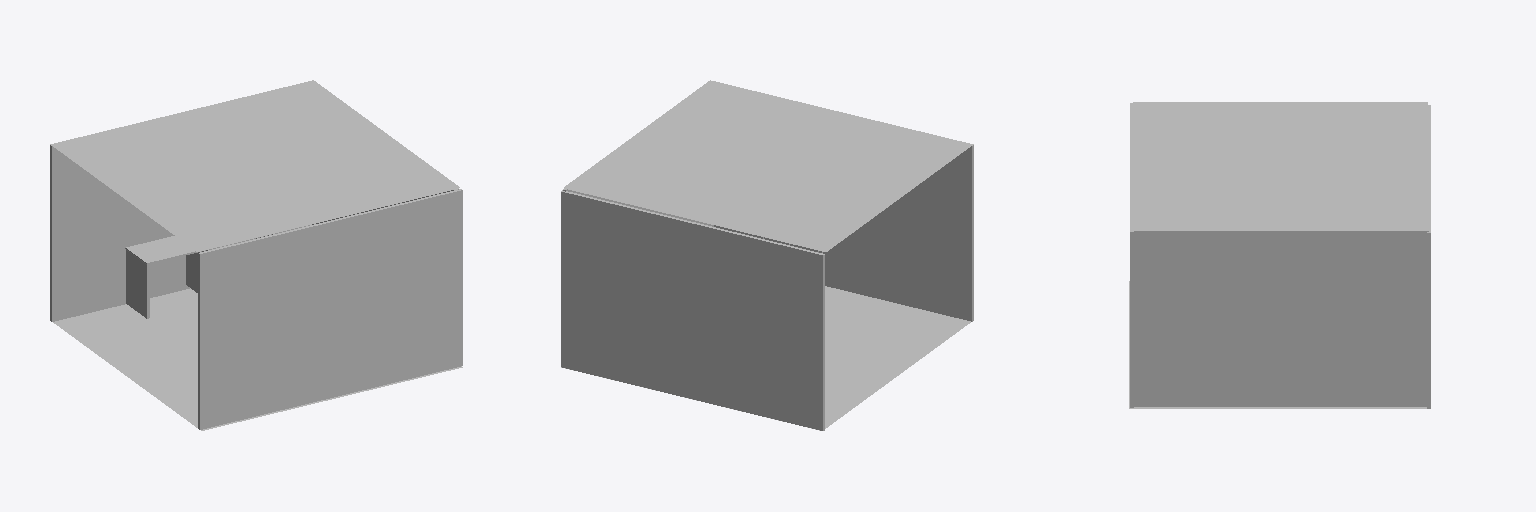
The model's file is room.obj.
3 renders of one model, left to right at view 1: azimuth 30°, elevation 25°; view 2: azimuth 150°, elevation 25°; view 3: azimuth 270°, elevation 25°, orthographic.
Parts seen in each view (by area): view 1: Room_Decor; view 2: Room_Decor; view 3: Room_Decor.
Part boxes in pixels (left/top/right/bottom): Room_Decor: left=50, top=80, right=462, bottom=430; Room_Decor: left=561, top=80, right=973, bottom=430; Room_Decor: left=1129, top=102, right=1430, bottom=408.
Size of the model in its own units: 36.3 by 23.58 by 35.95.